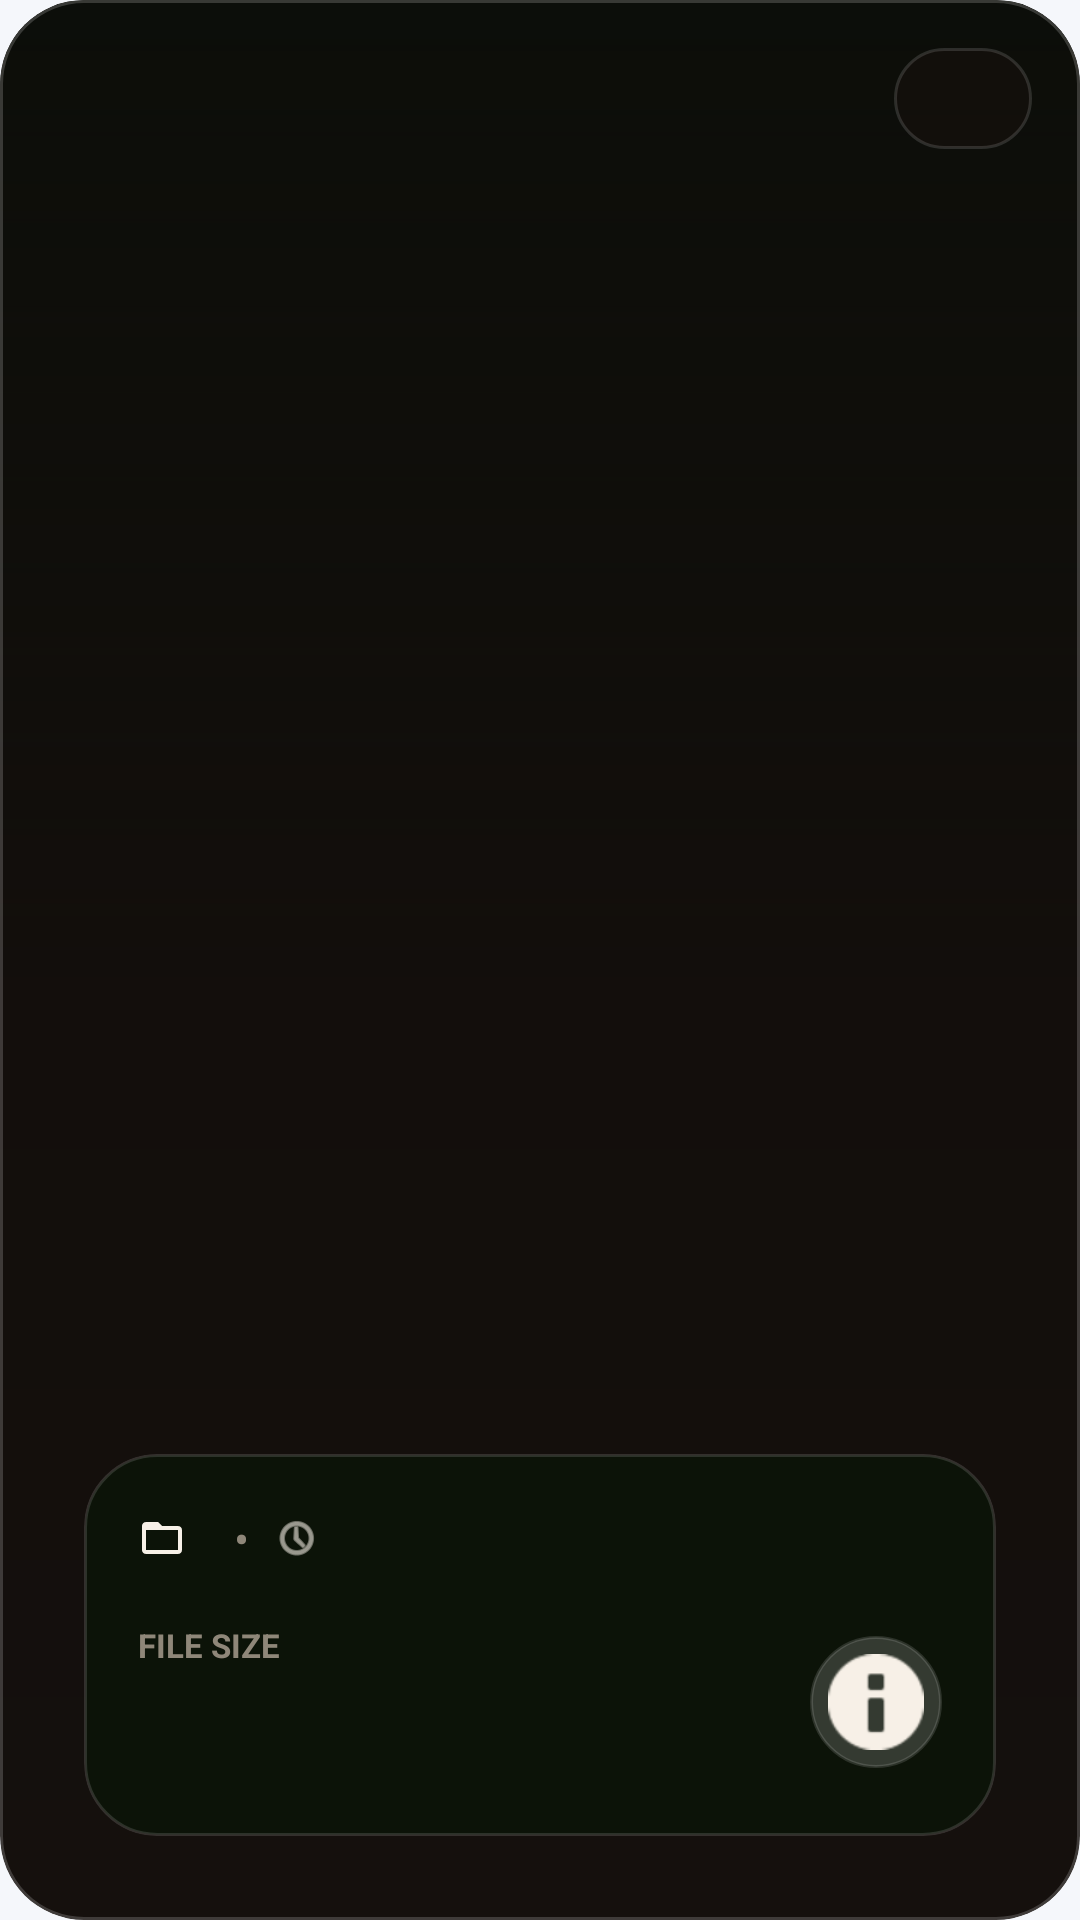

Icons on this 1080*1920 Android screen, each with its box as (x1, y1, x2, y2):
folder: (142, 1522, 182, 1554)
info: (810, 1636, 942, 1768)
recent history: (279, 1521, 314, 1556)
